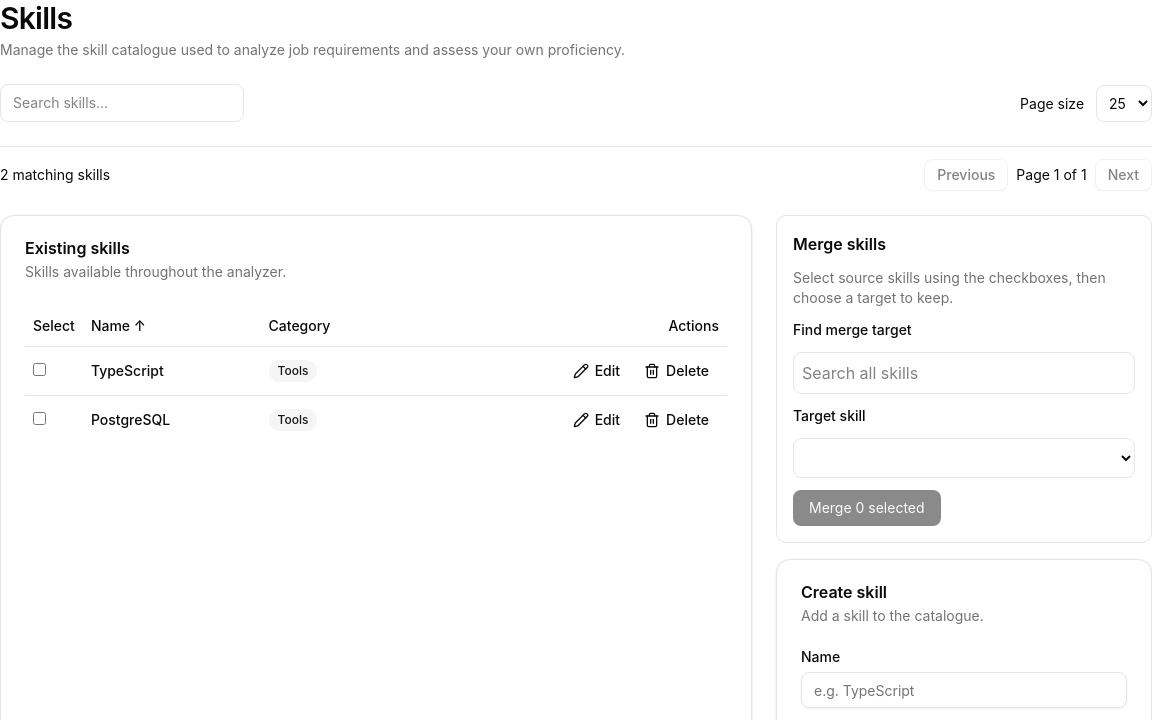
Test: SkillsView paginated catalogue and merging › creates a skill and refreshes the current page
Type "Vue" into the field with id "skill-name" at (964, 690), box [801,672,1127,708]
(page scrolled)
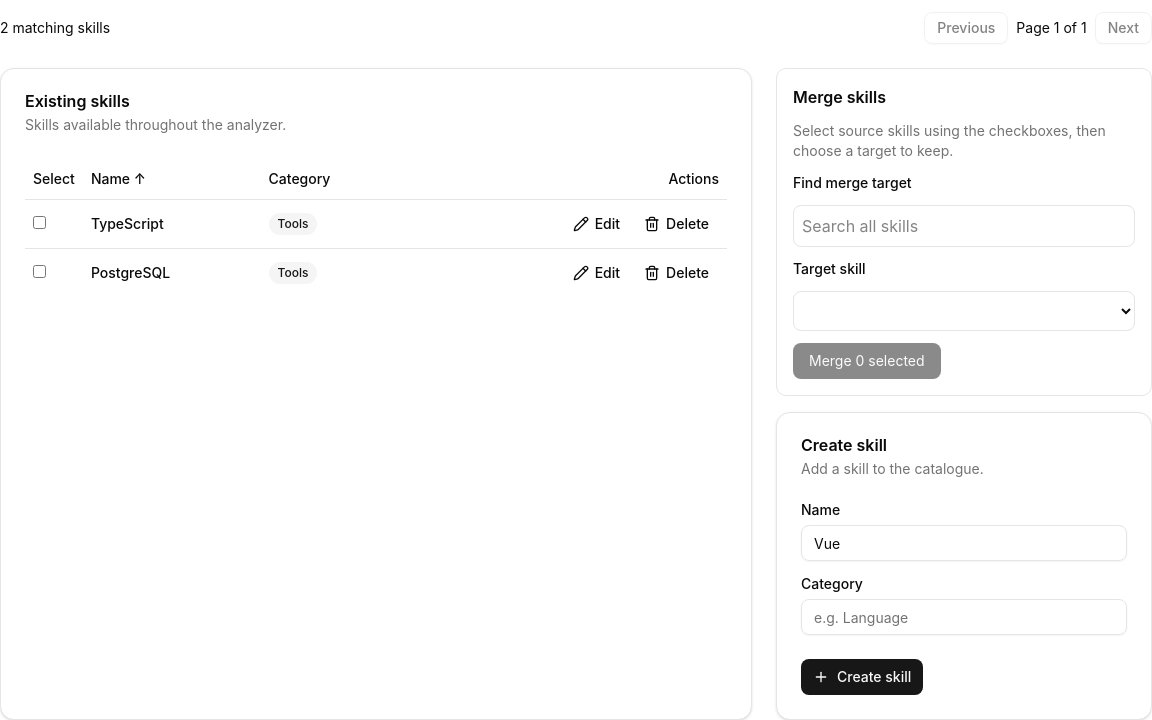
Type "Tools" into the field with id "skill-category" at (964, 617), box [801,599,1127,635]
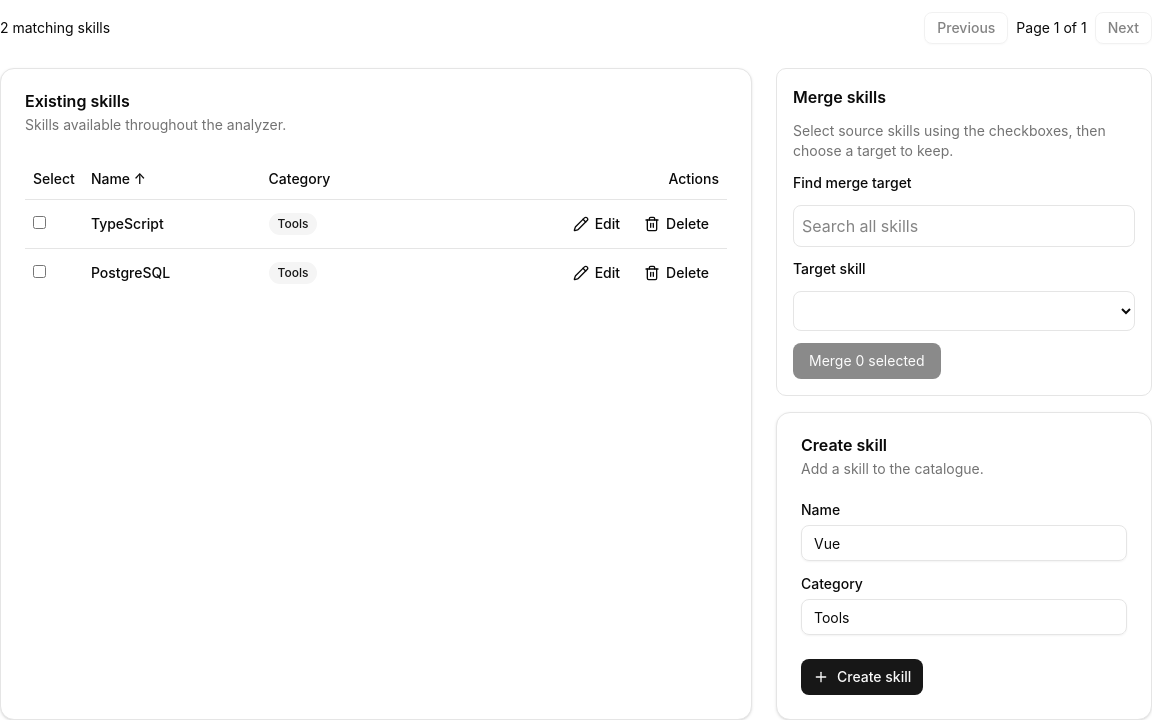
Submit the form, box [801,503,1127,695]
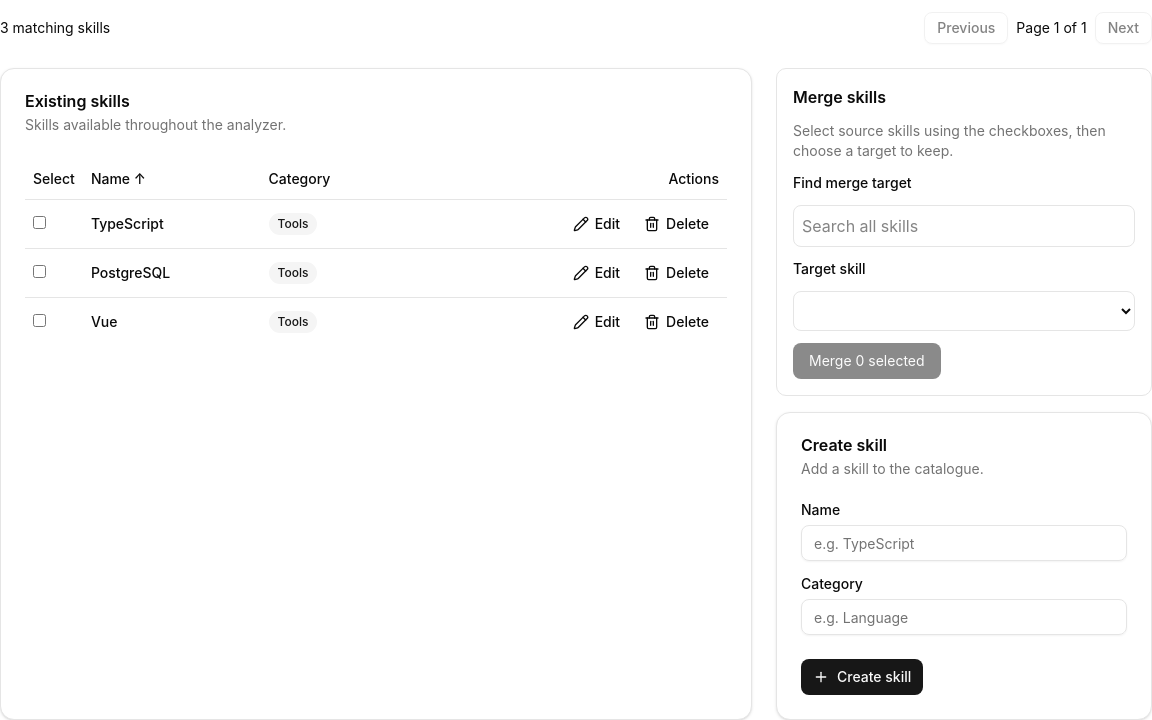
Check: the text "Vue" is shown, box [83,297,261,346]
